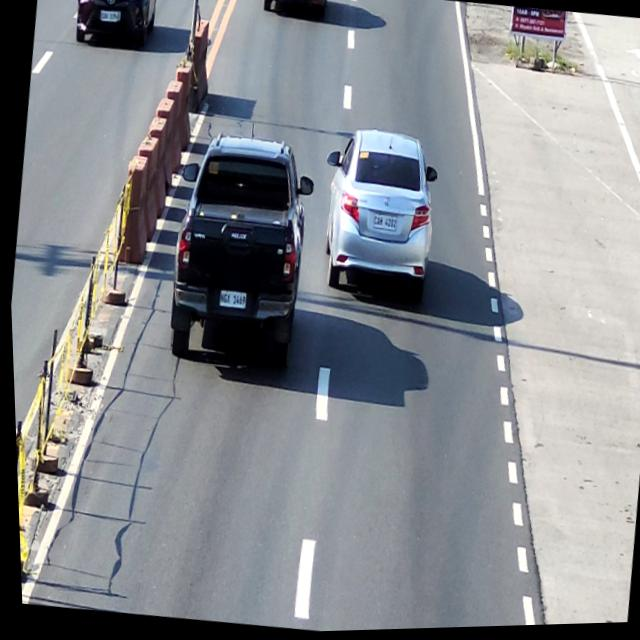Car: (155, 128, 323, 384), (307, 124, 444, 309), (69, 0, 161, 51), (262, 0, 329, 23)
License-Plate: (216, 291, 244, 310), (370, 215, 396, 234), (99, 10, 118, 23)
